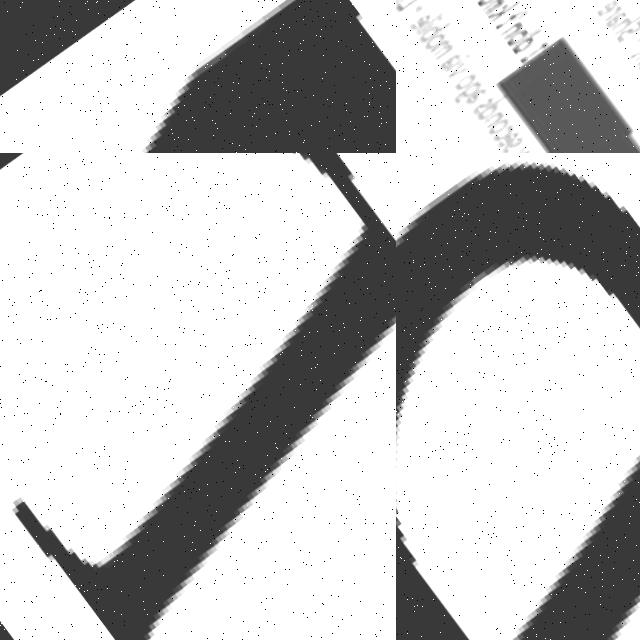A: (435, 44, 467, 73), (460, 79, 490, 106), (601, 1, 628, 27)
B: (415, 13, 451, 45)
C: (491, 117, 517, 140)
D: (396, 153, 640, 640), (508, 20, 547, 55), (472, 88, 510, 123)
E: (404, 7, 433, 34), (495, 124, 520, 148), (594, 0, 619, 15), (511, 147, 540, 153), (634, 46, 640, 70)
F: (517, 145, 552, 153)
G: (449, 74, 483, 104)
H: (606, 3, 640, 33)
I: (516, 34, 550, 64), (413, 9, 446, 38), (441, 46, 473, 74), (396, 0, 422, 7)
K: (485, 0, 520, 21)
L: (412, 6, 445, 35), (396, 0, 423, 12)
M: (428, 34, 454, 60)
N: (499, 14, 524, 38), (480, 104, 505, 127), (480, 0, 505, 13), (630, 39, 640, 62)
O: (482, 109, 513, 137), (419, 24, 449, 52), (503, 21, 531, 46), (453, 67, 477, 91), (472, 0, 502, 7)
R: (598, 0, 622, 20)
S: (611, 9, 640, 42), (501, 129, 525, 152), (468, 92, 492, 114)
T: (0, 153, 396, 640), (493, 1, 524, 29), (624, 28, 640, 58)
V: (0, 0, 396, 153), (444, 56, 468, 79)
W: (506, 138, 532, 153)
